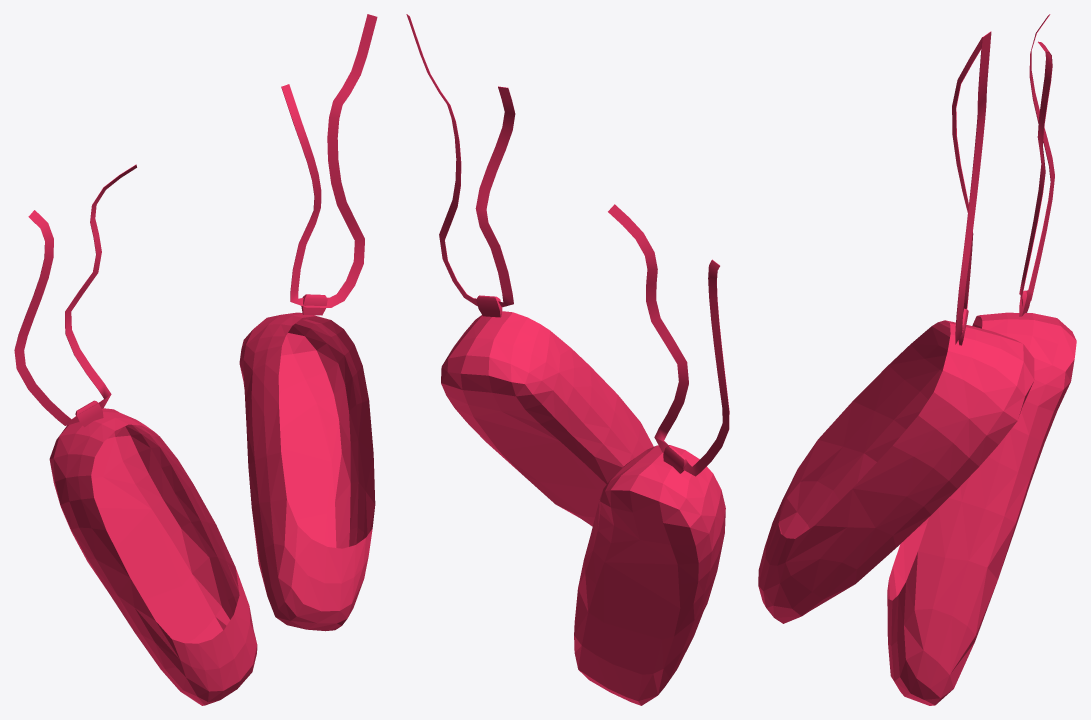
Rendered from BallerinaShoes.fbx.
The picture shows the model from 3 angles, left to right: view 1: azimuth 30°, elevation 25°; view 2: azimuth 150°, elevation 25°; view 3: azimuth 270°, elevation 25°; orthographic projection. The views are drawn at different scales.
Parts seen in each view (by area): view 1: Cylinder003; view 2: Cylinder003; view 3: Cylinder003.
Boxes of the visible parts, left/top/right/bottom form: Cylinder003: left=14, top=14, right=377, bottom=705; Cylinder003: left=406, top=14, right=729, bottom=705; Cylinder003: left=758, top=14, right=1076, bottom=705.
Size of the model in its own units: 9.24 by 16.51 by 6.06.
